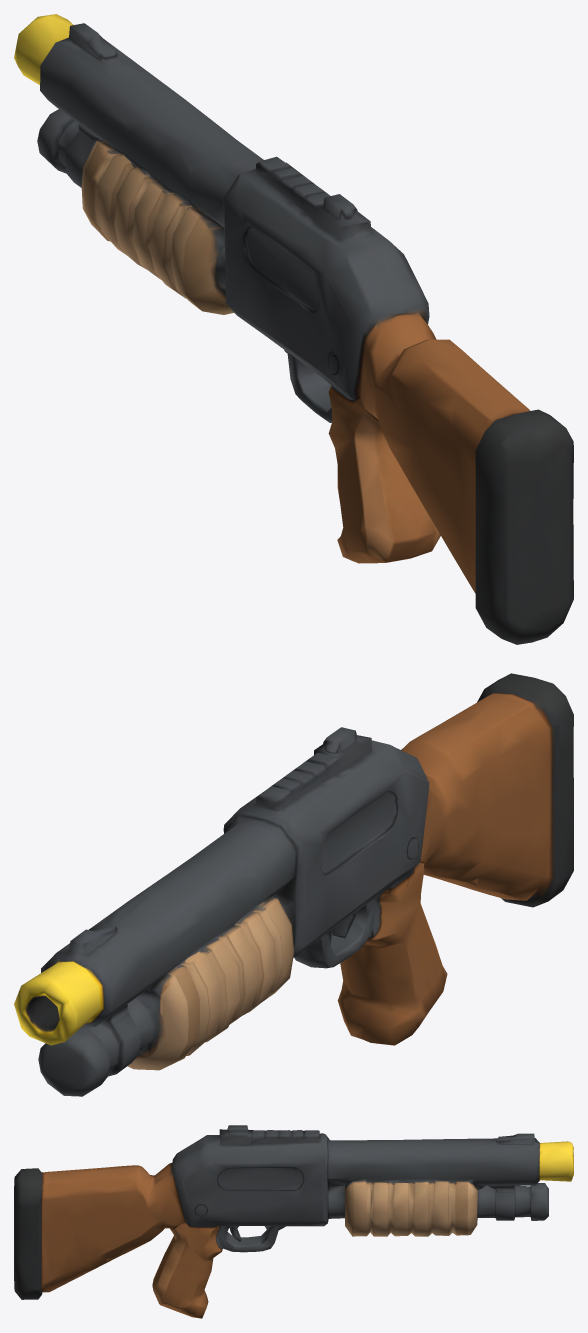
Rendered from breacher_tripo_raw.glb.
3 renders of one model, top to bottom at view 1: azimuth 30°, elevation 25°; view 2: azimuth 150°, elevation 25°; view 3: azimuth 270°, elevation 25°, orthographic. The views are drawn at different scales.
Parts seen in each view (by area): view 1: tripo_node_c8c179cf-2584-43df-8df2-bccadf5642f0; view 2: tripo_node_c8c179cf-2584-43df-8df2-bccadf5642f0; view 3: tripo_node_c8c179cf-2584-43df-8df2-bccadf5642f0.
Boxes of the visible parts, bbox=[...] form: tripo_node_c8c179cf-2584-43df-8df2-bccadf5642f0: bbox=[14, 14, 573, 644]; tripo_node_c8c179cf-2584-43df-8df2-bccadf5642f0: bbox=[14, 673, 573, 1096]; tripo_node_c8c179cf-2584-43df-8df2-bccadf5642f0: bbox=[14, 1125, 573, 1318].
Bounding box in the file's own units: 0.1334 × 0.3691 × 1.
1 material, 1 textured.
